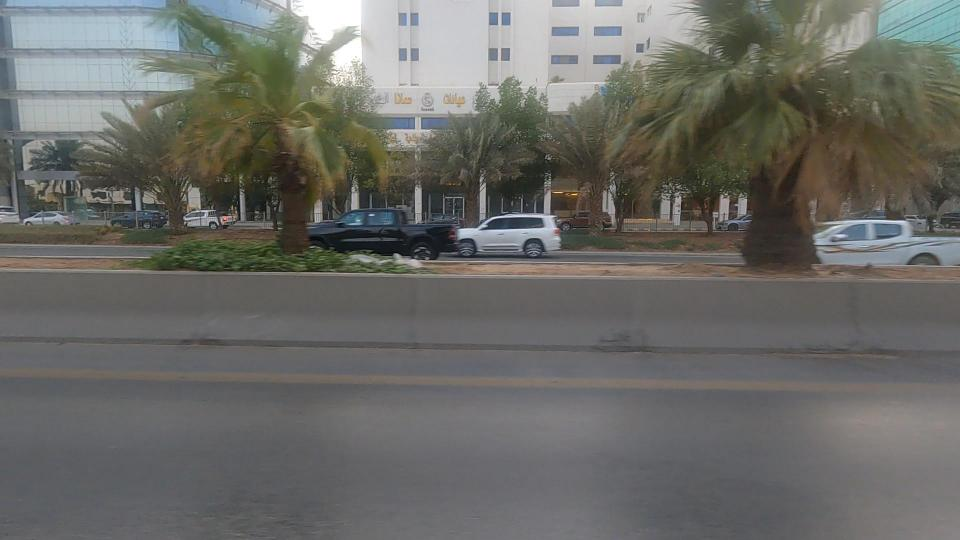GARBAGE: (287, 216, 472, 294)
